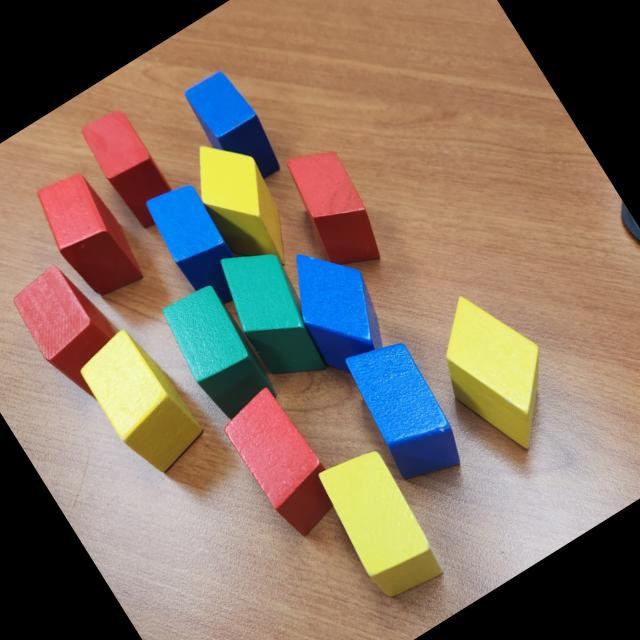blue: (332, 327, 474, 494), (266, 229, 406, 385), (139, 175, 258, 316), (178, 64, 290, 195)
green: (204, 236, 342, 397), (153, 280, 280, 430)
red: (214, 381, 350, 544), (4, 255, 141, 411), (25, 160, 154, 308), (270, 135, 397, 283), (76, 103, 184, 233)
yellow: (411, 274, 580, 466), (308, 441, 452, 608), (70, 318, 214, 484), (175, 124, 305, 277)
